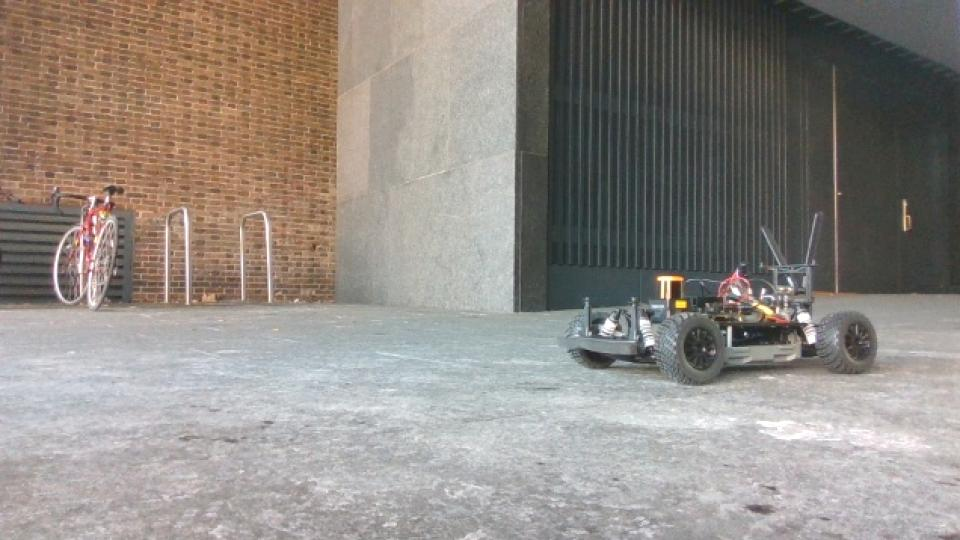car: (558, 210, 880, 388)
